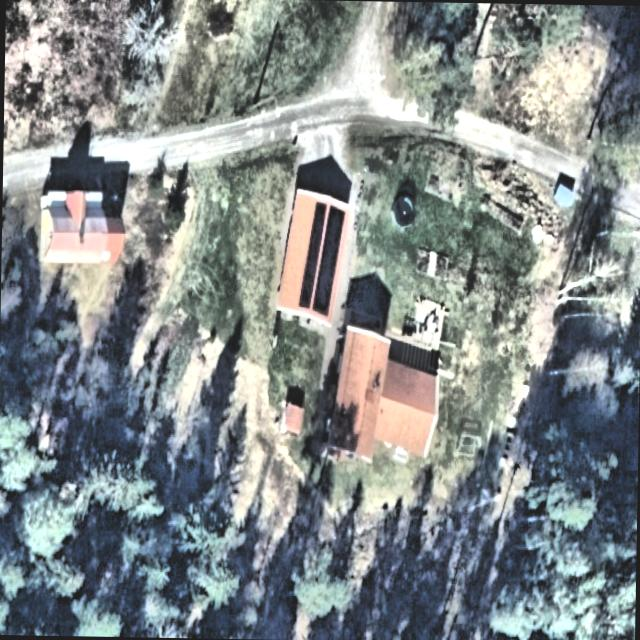roof_pv: (308, 247, 339, 317), (319, 202, 345, 260), (295, 249, 320, 309), (306, 198, 330, 258)
